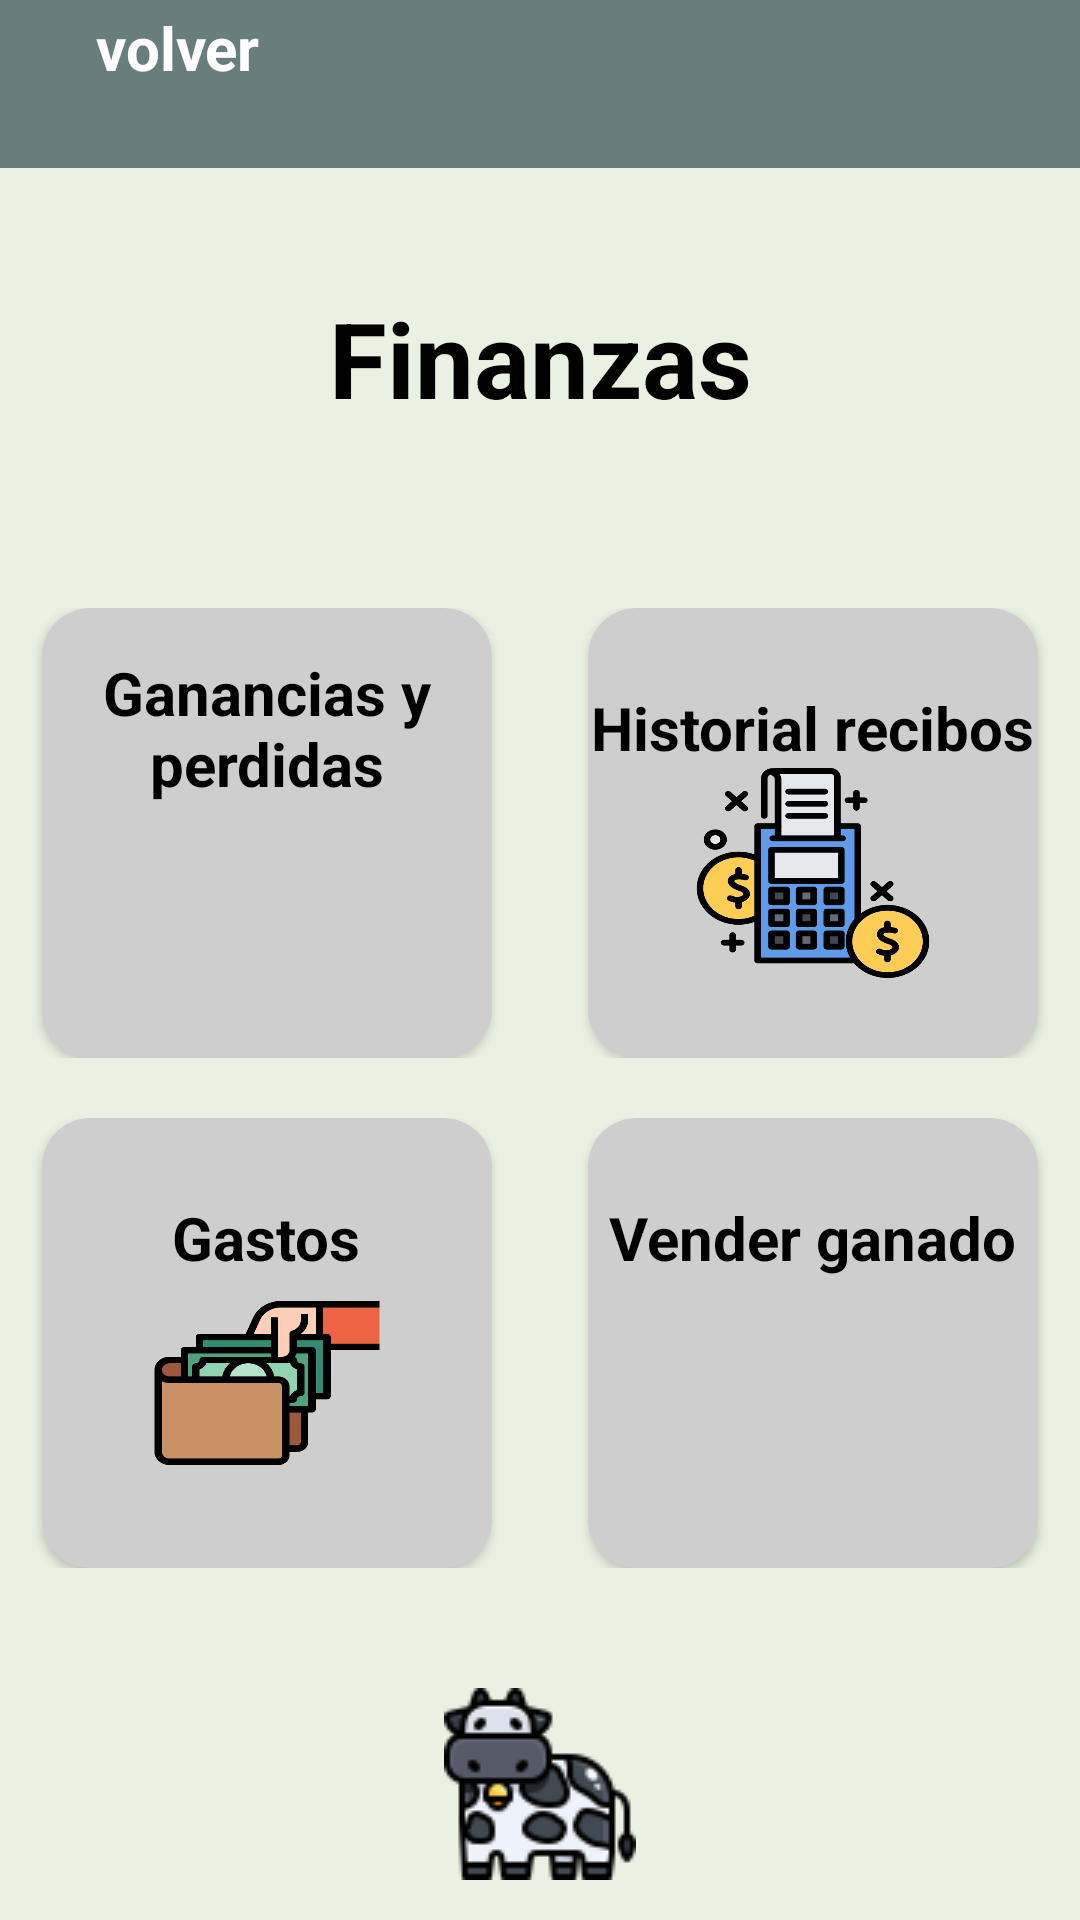

Named icons in this screenshot (1080×1920) and their bounding boxes, (x1, y1, x2, y2):
cow: (444, 1688, 636, 1880)
